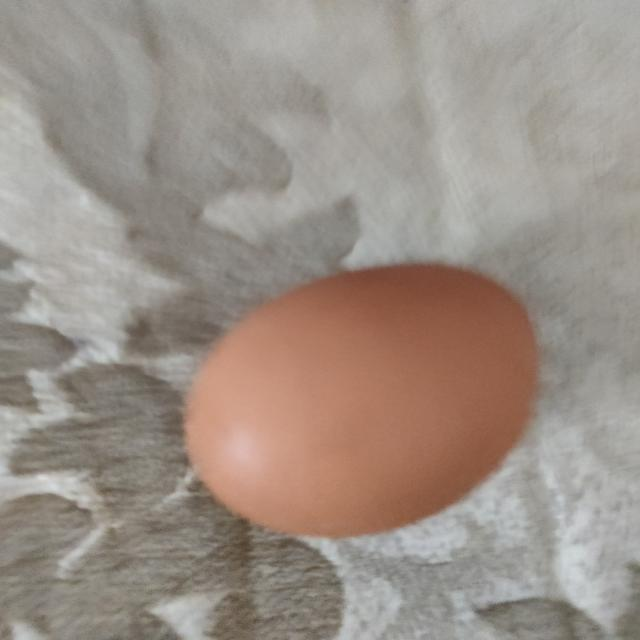egg: (168, 252, 550, 542)
